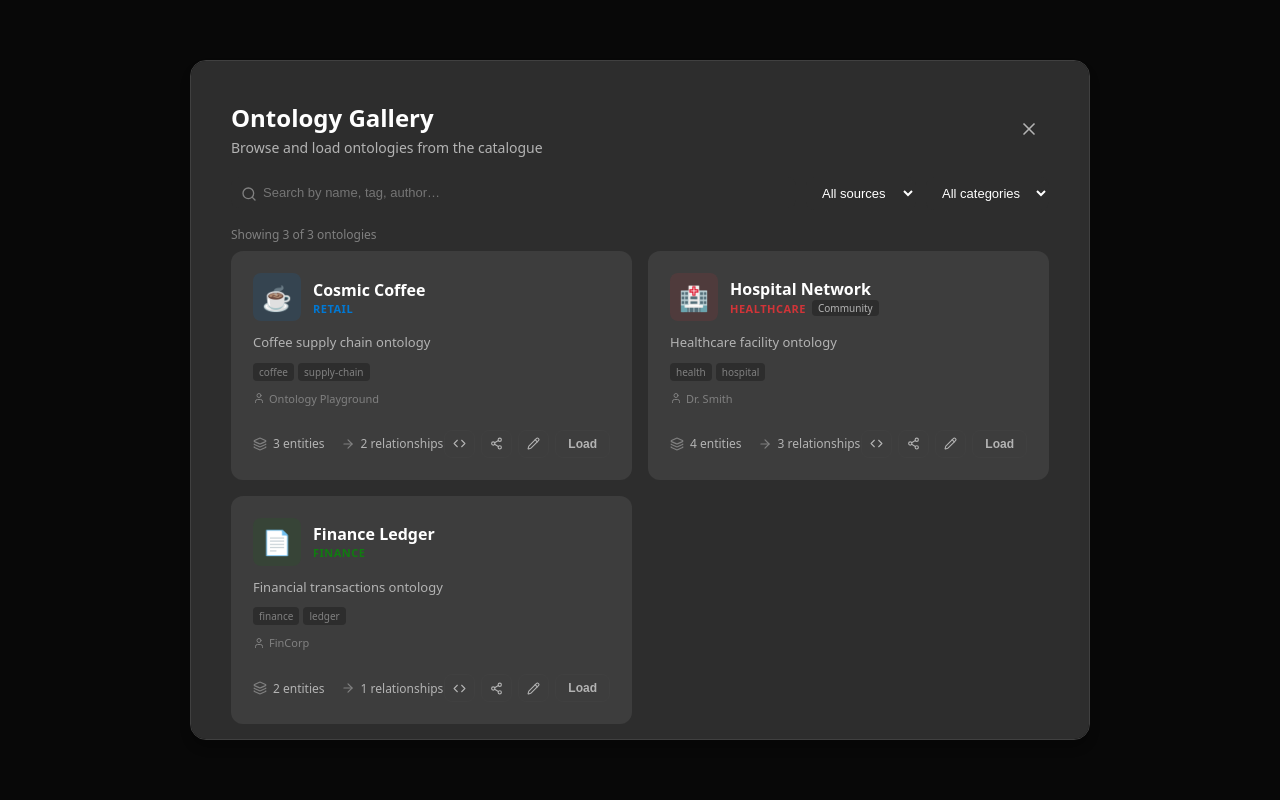
Test: GalleryModal › filters entries by search query (tag)
Expected: the text "Cosmic Coffee" is shown, [313,278,425,300]
Type "ledger" into the field with placeholder "Search by name, tag, author…" at (514, 192), box [231,177,796,208]
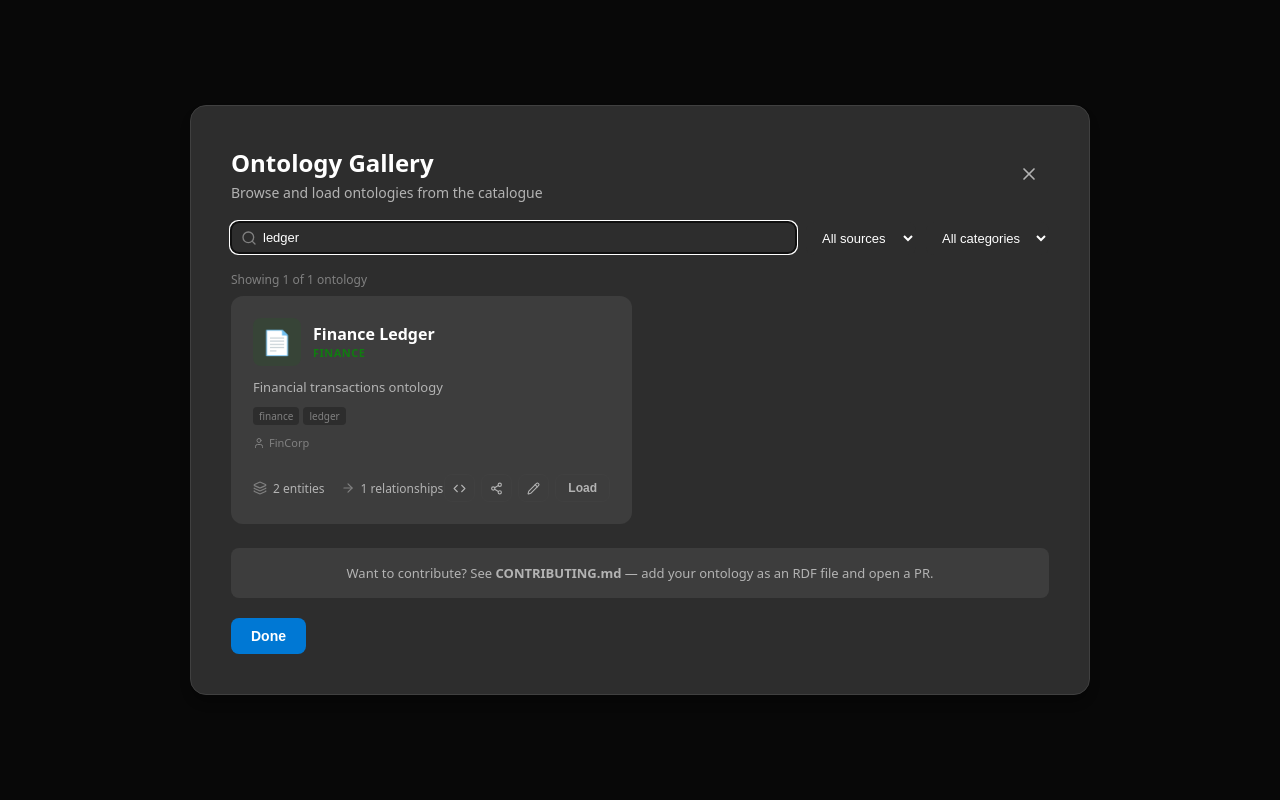
Expected: the text "Finance Ledger" is shown, [313,323,435,345]
Expected: the text "Cosmic Coffee" is gone
Expected: the text "Hospital Network" is gone
